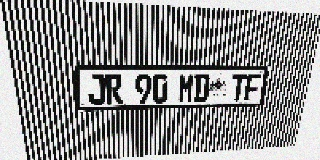0: (152, 74, 168, 103)
9: (135, 74, 152, 104)
D: (193, 74, 210, 102)
F: (244, 74, 261, 101)
J: (87, 74, 106, 105)
M: (178, 74, 195, 103)
R: (105, 74, 123, 104)
T: (230, 74, 247, 101)
